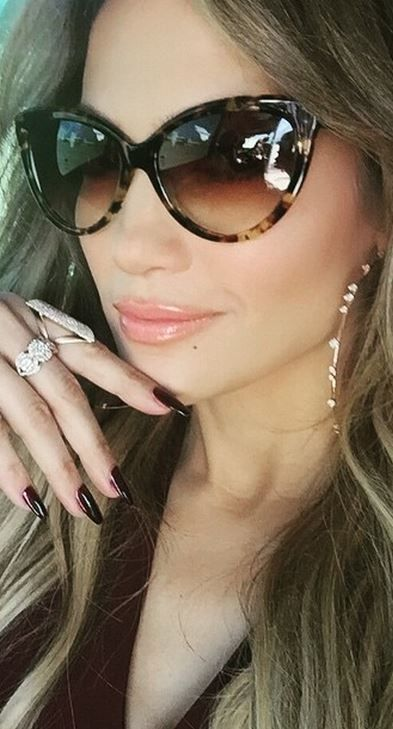sunglasses: (23, 113, 289, 229)
